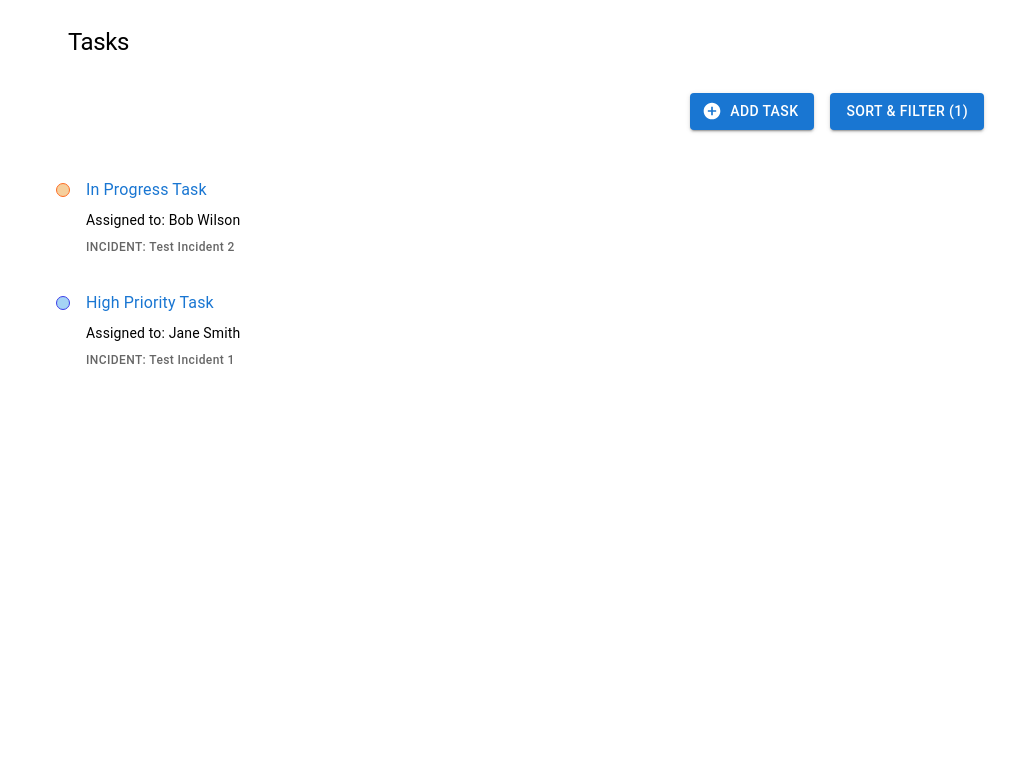
Test: Tasks Page › opens sort and filter dialog when button clicked
Click the button "Sort & Filter (1)": {"x": 907, "y": 111} [830,93,984,130]
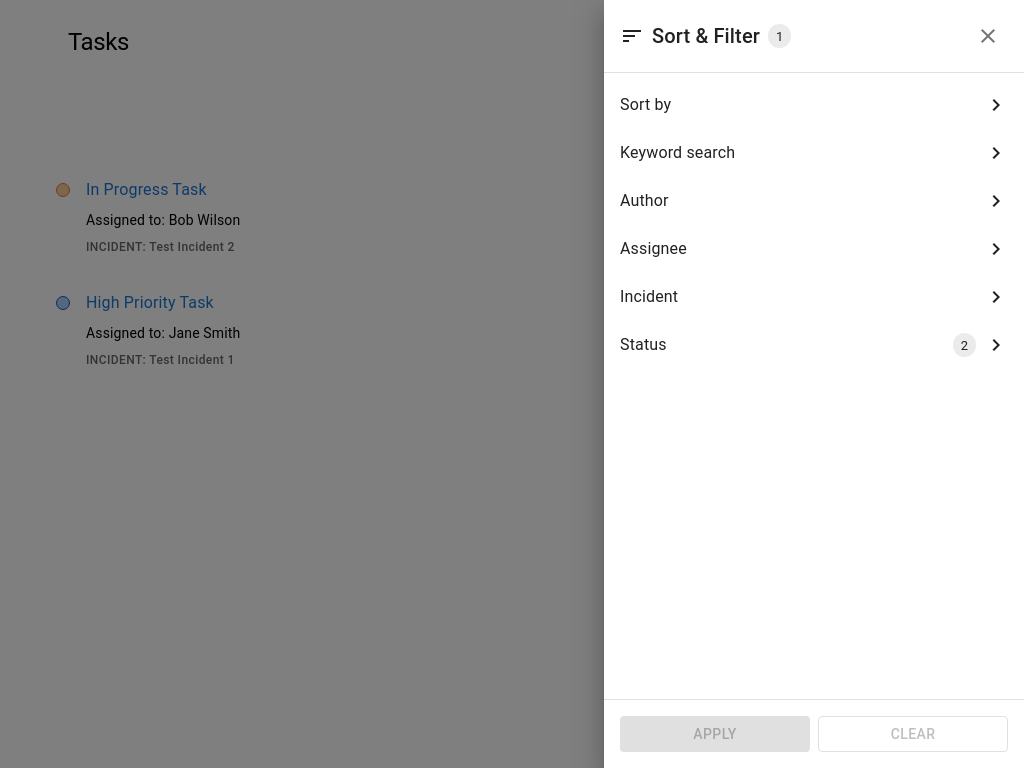
Check: the text "Sort by" is shown, box [620,95,671,114]
